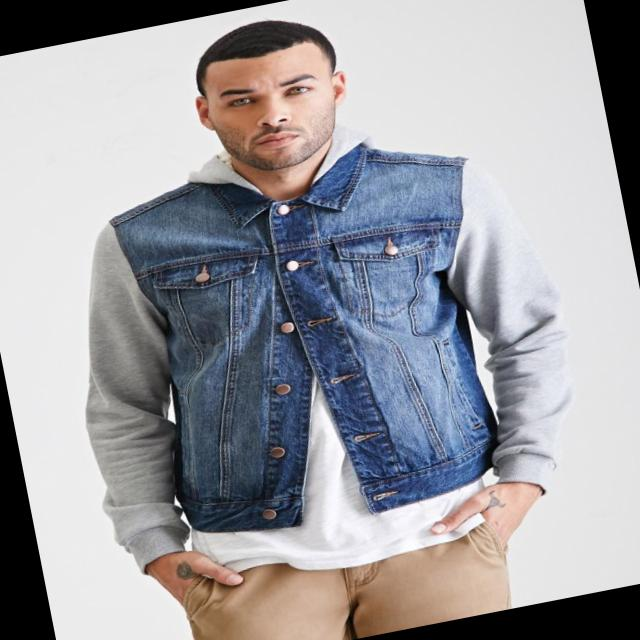Jacket: (46, 120, 598, 579)
